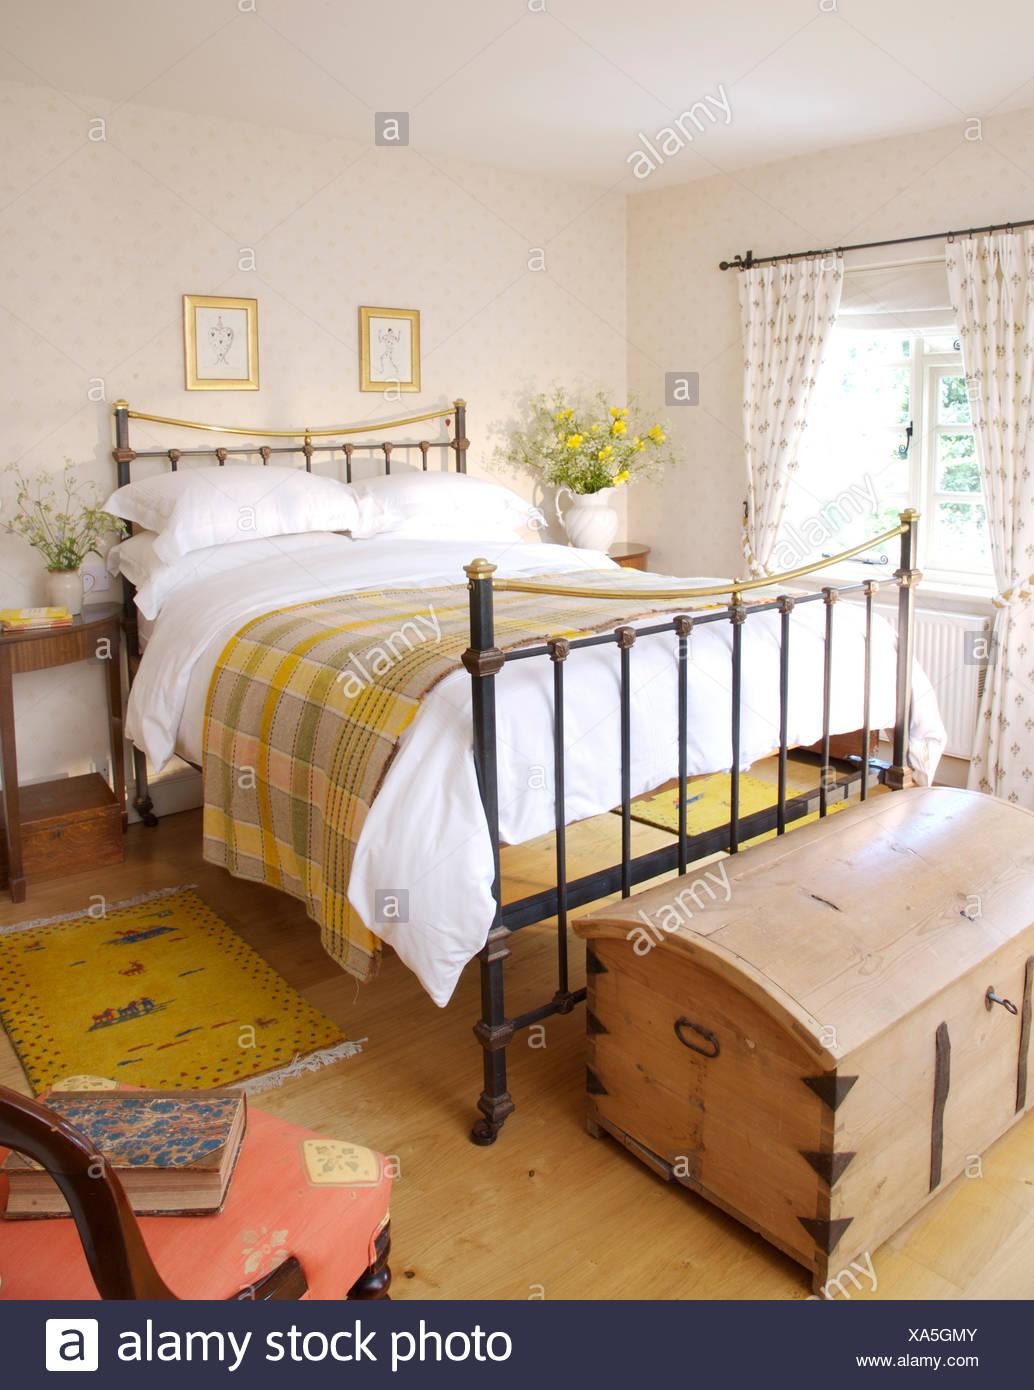bed: (66, 287, 890, 726)
